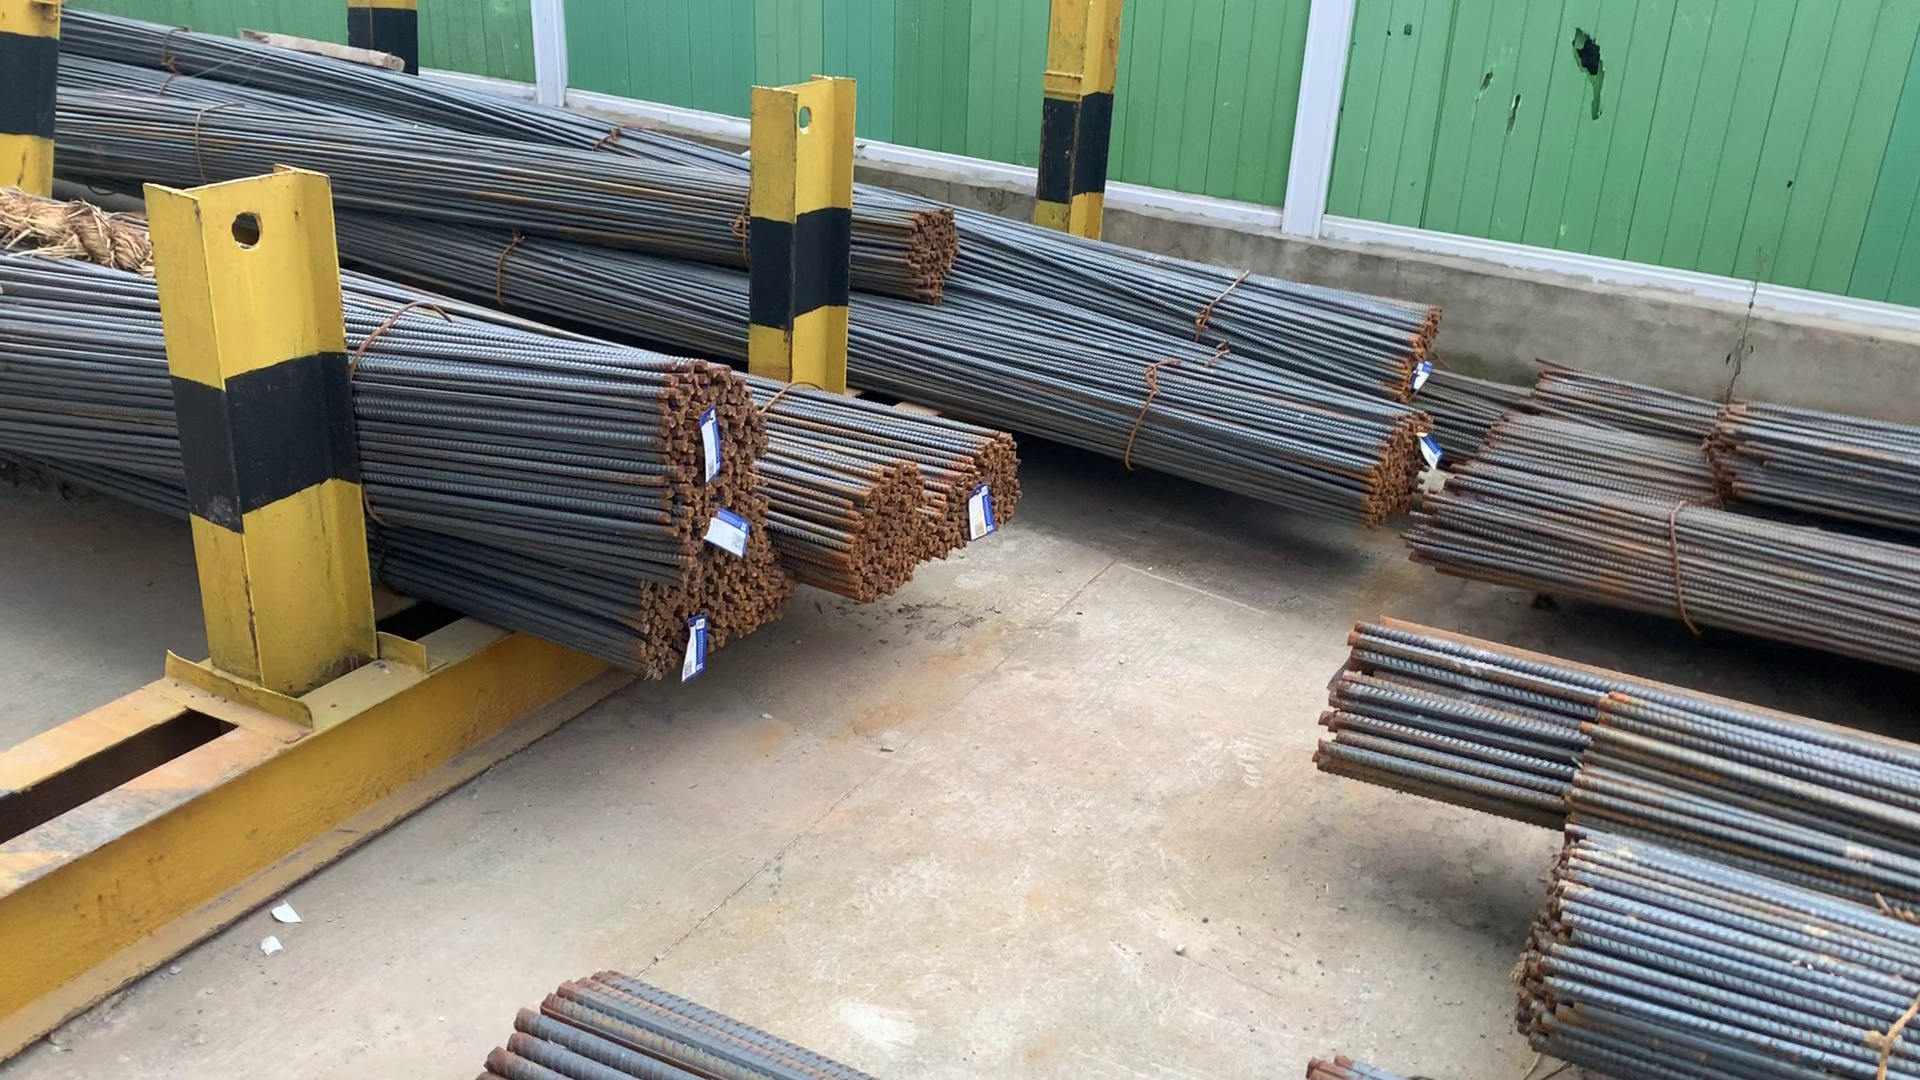rebar: (650, 520, 789, 680), (644, 363, 766, 516), (833, 468, 930, 600), (928, 430, 1026, 546), (1353, 415, 1433, 527), (905, 206, 971, 301), (1385, 305, 1445, 396)
